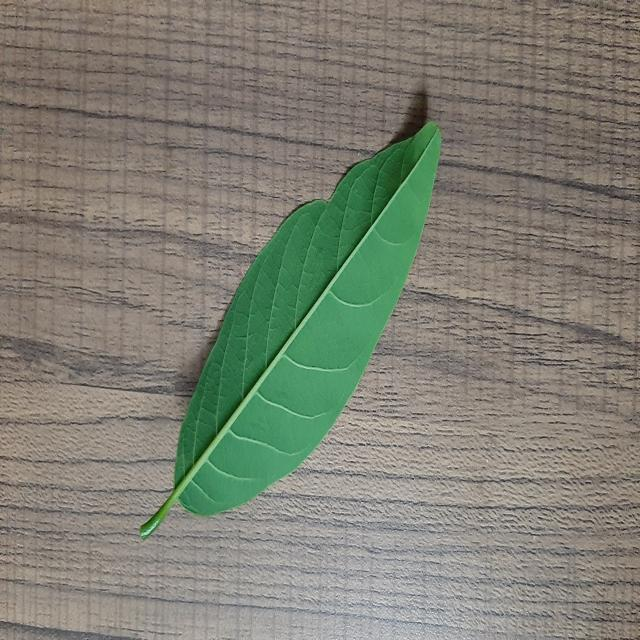seethaphala: (141, 122, 440, 539)
